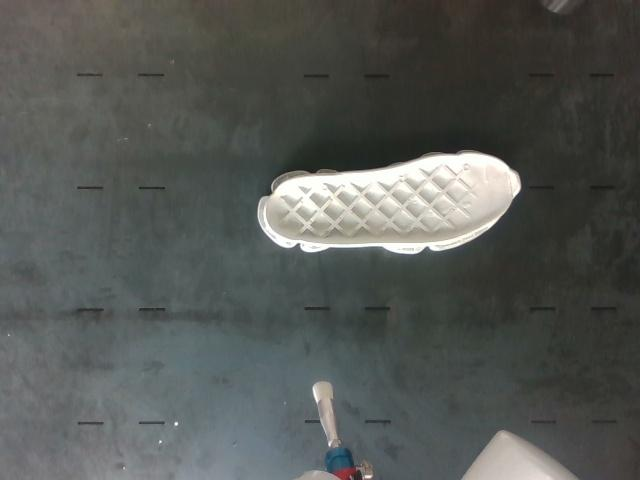shoes: (264, 153, 520, 245)
